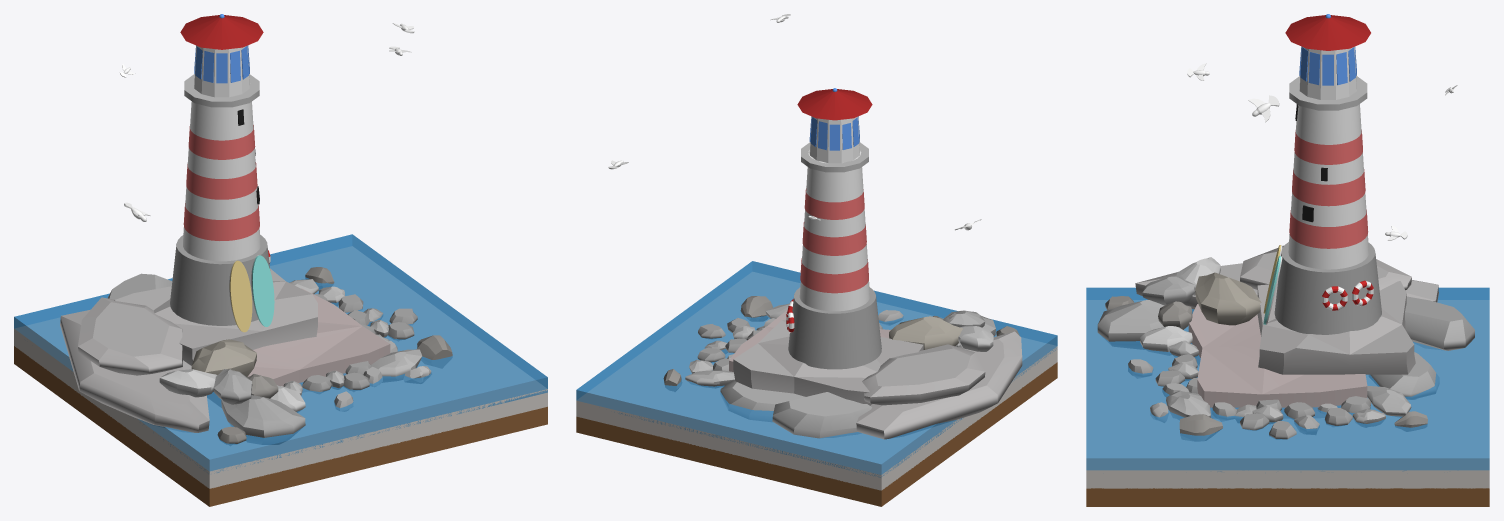
Rendered from lighthouse.glb.
3 views of the same model, side by side, from view 1: azimuth 30°, elevation 25°; view 2: azimuth 150°, elevation 25°; view 3: azimuth 270°, elevation 25° (orthographic). The views are drawn at different scales.
Visible parts, largest first — view 1: box_1, box_2, box_0, cylinder_41, cylinder_5, cylinder_6, box_3, box_4, cylinder_81, cylinder_40, cylinder_7, cone_50 (+10 smaller); view 2: box_1, box_2, box_0, box_4, cylinder_5, cylinder_41, cylinder_40, cylinder_6, cylinder_81, cylinder_9, cylinder_36, cone_50 (+7 smaller); view 3: box_1, box_2, box_3, box_4, box_0, cylinder_41, cylinder_40, cylinder_81, cylinder_9, cylinder_8, cone_50, cylinder_7 (+14 smaller).
Part boxes in pixels (x1,y1,x2,y2): box_1: [14, 246, 547, 488]; box_2: [14, 234, 547, 473]; box_0: [14, 346, 547, 506]; cylinder_41: [183, 101, 260, 261]; cylinder_5: [60, 309, 209, 432]; cylinder_6: [78, 297, 182, 375]; box_3: [207, 288, 390, 407]; box_4: [114, 268, 317, 365]; cylinder_81: [183, 125, 259, 240]; cylinder_40: [170, 234, 269, 325]; cylinder_7: [221, 395, 305, 444]; cone_50: [180, 15, 263, 49]; box_1: [576, 272, 1057, 490]; box_2: [576, 261, 1057, 477]; box_0: [576, 362, 1057, 506]; box_4: [733, 319, 923, 405]; cylinder_5: [856, 331, 1022, 439]; cylinder_41: [799, 150, 869, 311]; cylinder_40: [788, 287, 881, 369]; cylinder_6: [862, 344, 985, 405]; cylinder_81: [800, 188, 868, 293]; cylinder_9: [772, 392, 871, 438]; cylinder_36: [720, 380, 805, 421]; cone_50: [797, 89, 872, 120]; box_1: [1086, 300, 1489, 488]; box_2: [1086, 287, 1489, 471]; box_3: [1188, 304, 1367, 418]; box_4: [1257, 281, 1415, 374]; box_0: [1086, 488, 1489, 506]; cylinder_41: [1288, 104, 1368, 269]; cylinder_40: [1274, 242, 1381, 334]; cylinder_81: [1289, 130, 1368, 248]; cylinder_9: [1405, 296, 1474, 350]; cylinder_8: [1195, 272, 1261, 325]; cone_50: [1285, 15, 1370, 50]; cylinder_7: [1097, 300, 1164, 349].
Size of the model in its own units: 6.74 by 6.48 by 6.
